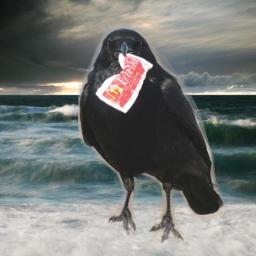Crow: (78, 27, 225, 244)
